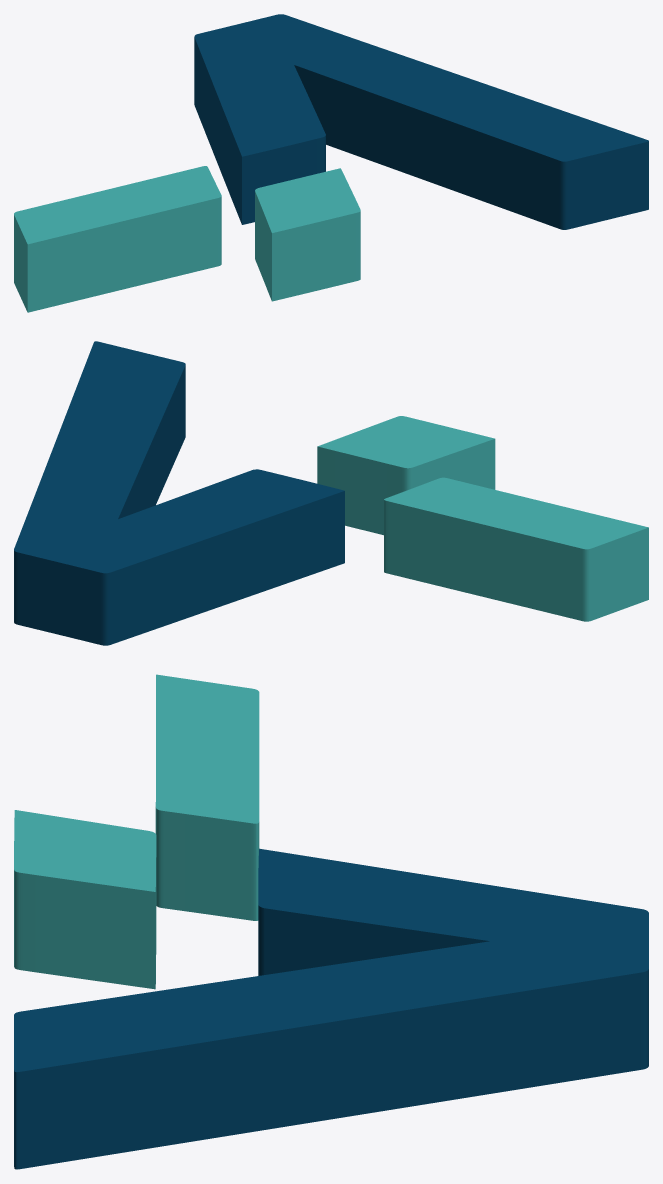
The model's file is Arsenal-DifferentView3b.glb.
3 renders of one model, top to bottom at view 1: azimuth 30°, elevation 25°; view 2: azimuth 150°, elevation 25°; view 3: azimuth 270°, elevation 25°, orthographic. The views are drawn at different scales.
Visible parts, largest first — view 1: Curve, Curve.001, Curve.002; view 2: Curve, Curve.001, Curve.002; view 3: Curve, Curve.001, Curve.002.
Part boxes in pixels (box(x1,y1,x2,y2)): Curve: box(194, 14, 648, 229); Curve.001: box(14, 166, 221, 312); Curve.002: box(255, 168, 360, 301); Curve: box(14, 341, 344, 645); Curve.001: box(384, 477, 648, 621); Curve.002: box(317, 416, 495, 535); Curve: box(14, 848, 648, 1169); Curve.001: box(155, 674, 259, 920); Curve.002: box(14, 810, 156, 989).
Size of the model in its own units: 5.62 by 0.6411 by 3.79.
